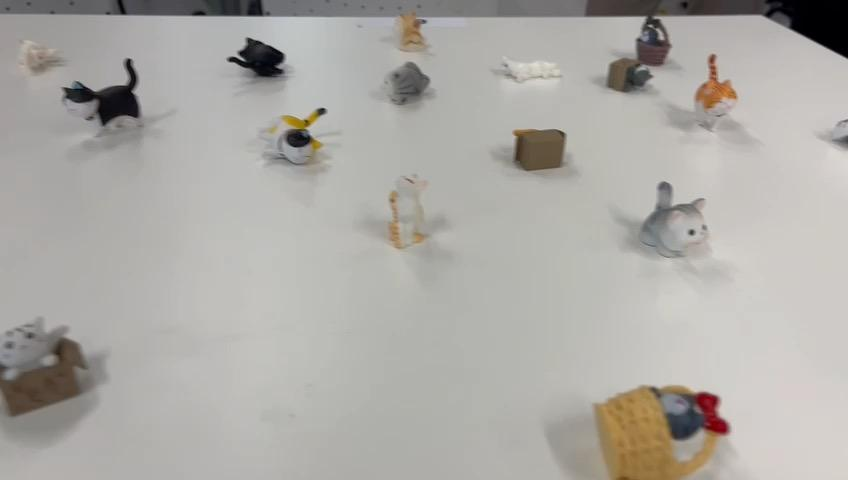pet: (6, 286, 133, 442), (583, 366, 734, 480), (613, 171, 730, 279), (258, 91, 361, 185), (68, 69, 166, 150), (358, 166, 443, 253), (491, 119, 584, 193), (213, 14, 314, 81), (373, 59, 451, 123), (496, 49, 583, 106), (693, 64, 757, 135), (593, 34, 649, 94), (23, 29, 63, 85)
